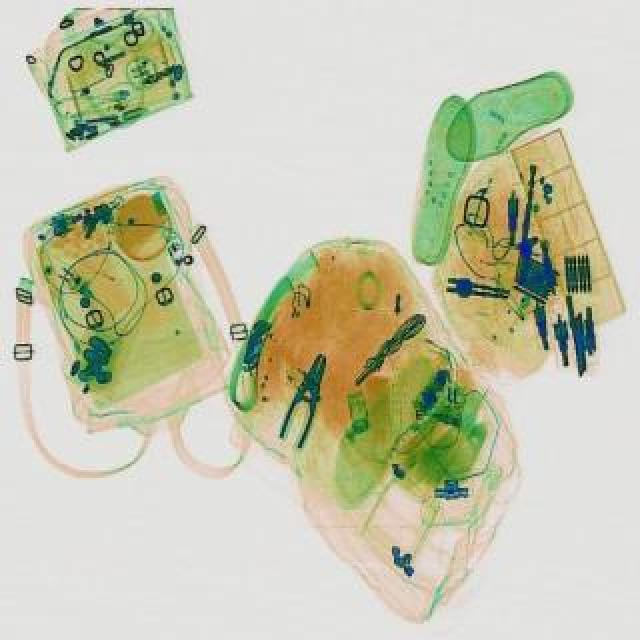wrench: (272, 352, 336, 452)
